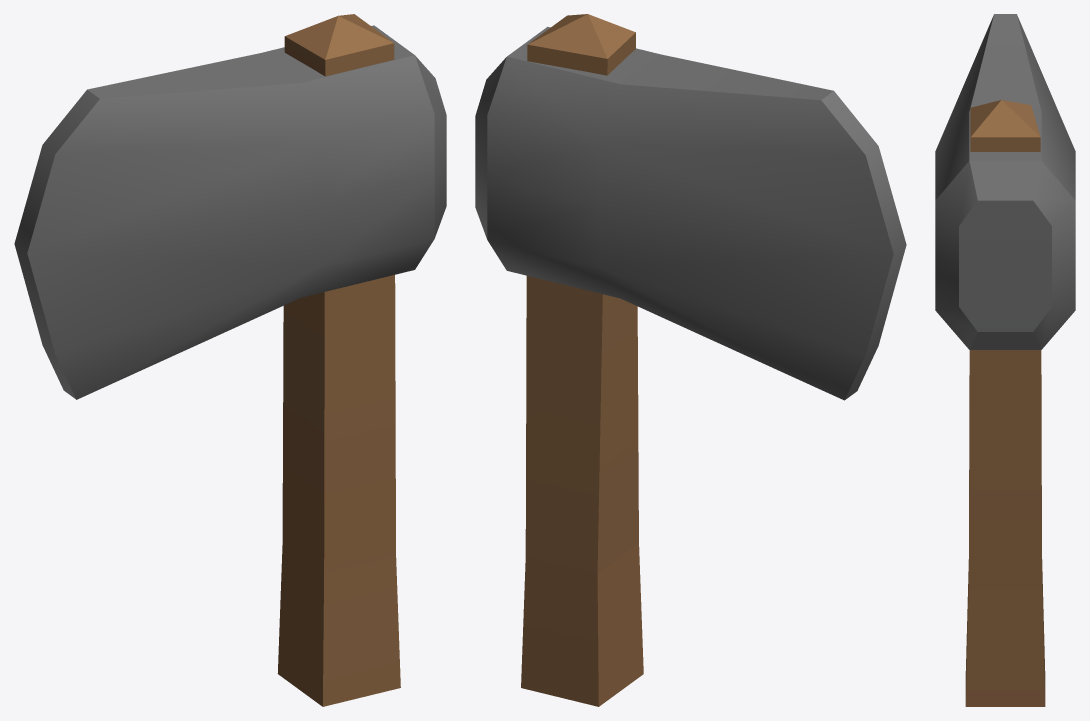
The picture shows the model from 3 angles, left to right: view 1: azimuth 30°, elevation 25°; view 2: azimuth 150°, elevation 25°; view 3: azimuth 270°, elevation 25°; orthographic projection. The views are drawn at different scales.
Parts seen in each view (by area): view 1: Ax_B; view 2: Ax_B; view 3: Ax_B.
Boxes of the visible parts, x1,y1,x2,y2 form: Ax_B: (14, 14, 446, 706); Ax_B: (475, 14, 906, 706); Ax_B: (935, 14, 1075, 706).
Bounding box in the file's own units: 33.07 × 52.82 × 11.4.
